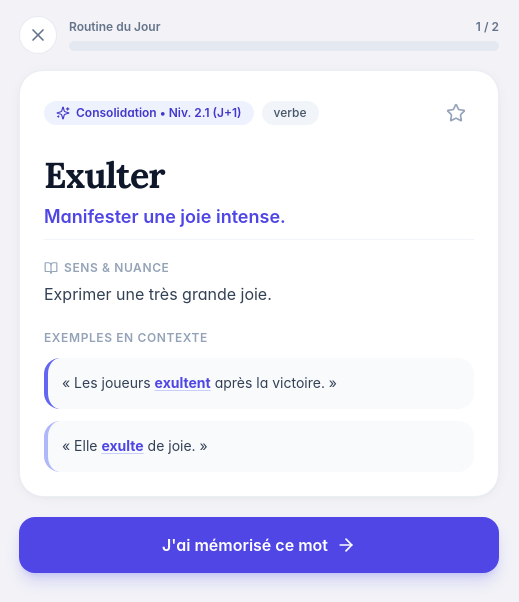
Test: routine transitions › mounts the next exercise even when animation frames are suspended
A suspended/resumed mobile page must not need an exit-animation callback to mount its next question.
Click the button "J'ai mémorisé ce mot" at (259, 544), box x1=19 y1=516 x2=499 y2=572
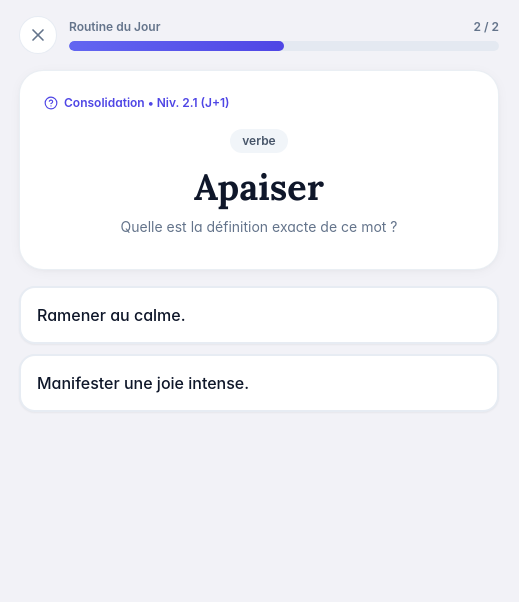
Expected: the heading "Apaiser" is shown, x1=194 y1=164 x2=324 y2=210
